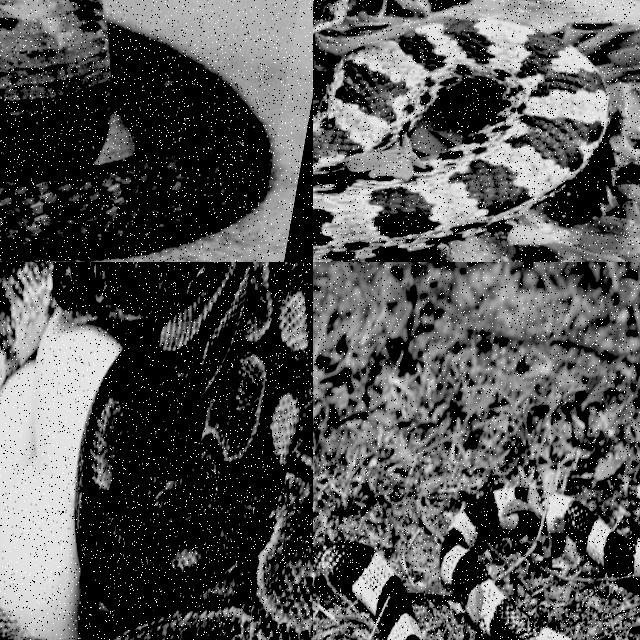Bungarus candidus: (440, 489, 570, 639)
Ophiophagus hannah: (0, 0, 269, 259)
Ovophis monticola: (313, 18, 607, 261)
Python bivittatus: (0, 262, 312, 639)
snake: (0, 262, 312, 639), (313, 18, 607, 261), (0, 0, 269, 259), (440, 489, 570, 639)
